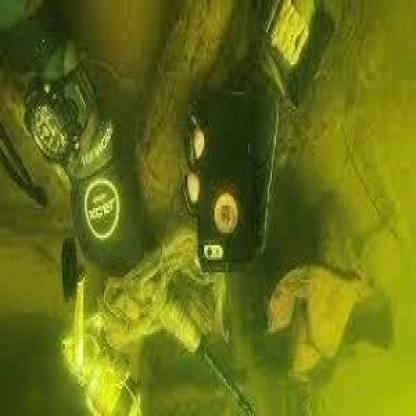cellphone: (195, 92, 252, 277)
